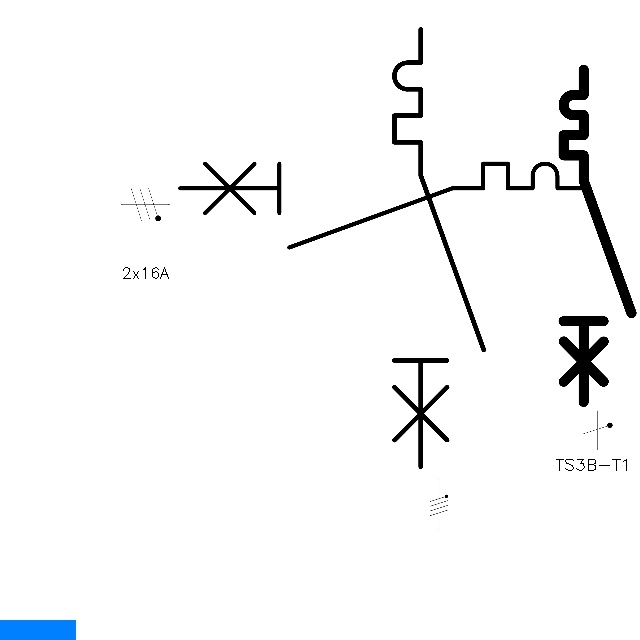interruptor_termomagnetico: (383, 18, 495, 477), (169, 153, 599, 258), (555, 61, 640, 410)
